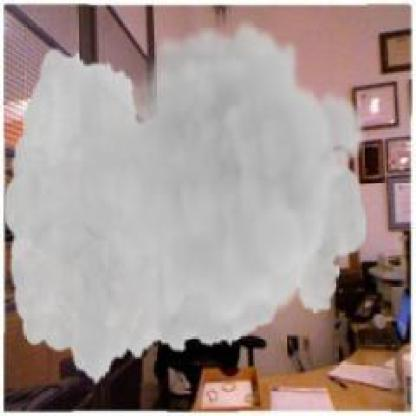Smoke: (4, 19, 368, 387)
